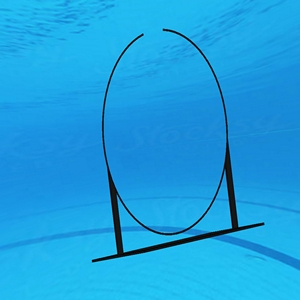circle: (89, 26, 267, 267)
